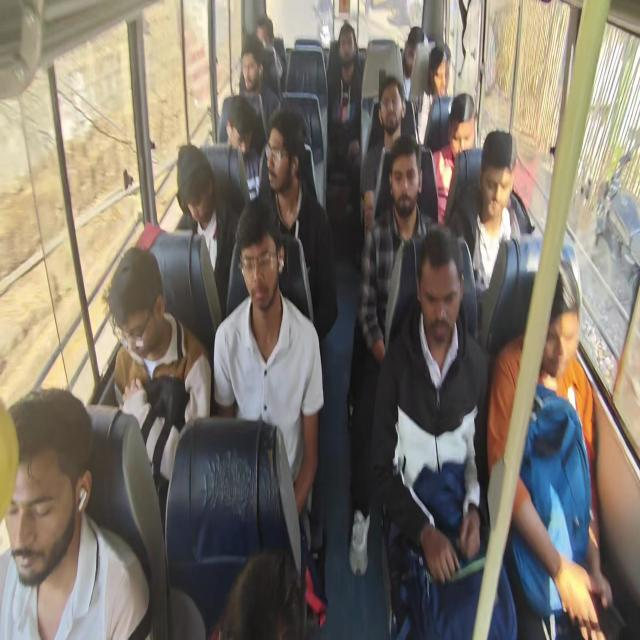person: (370, 224, 518, 638), (487, 260, 612, 638), (347, 134, 438, 576), (213, 197, 324, 545), (0, 386, 152, 638), (107, 246, 211, 536), (258, 108, 338, 342), (449, 129, 521, 299), (176, 143, 238, 319), (360, 76, 418, 231), (212, 546, 308, 639), (326, 22, 364, 223), (431, 92, 476, 225), (237, 36, 281, 153), (225, 94, 261, 204), (418, 43, 451, 144), (255, 15, 284, 97), (401, 26, 425, 100), (427, 42, 451, 99)
